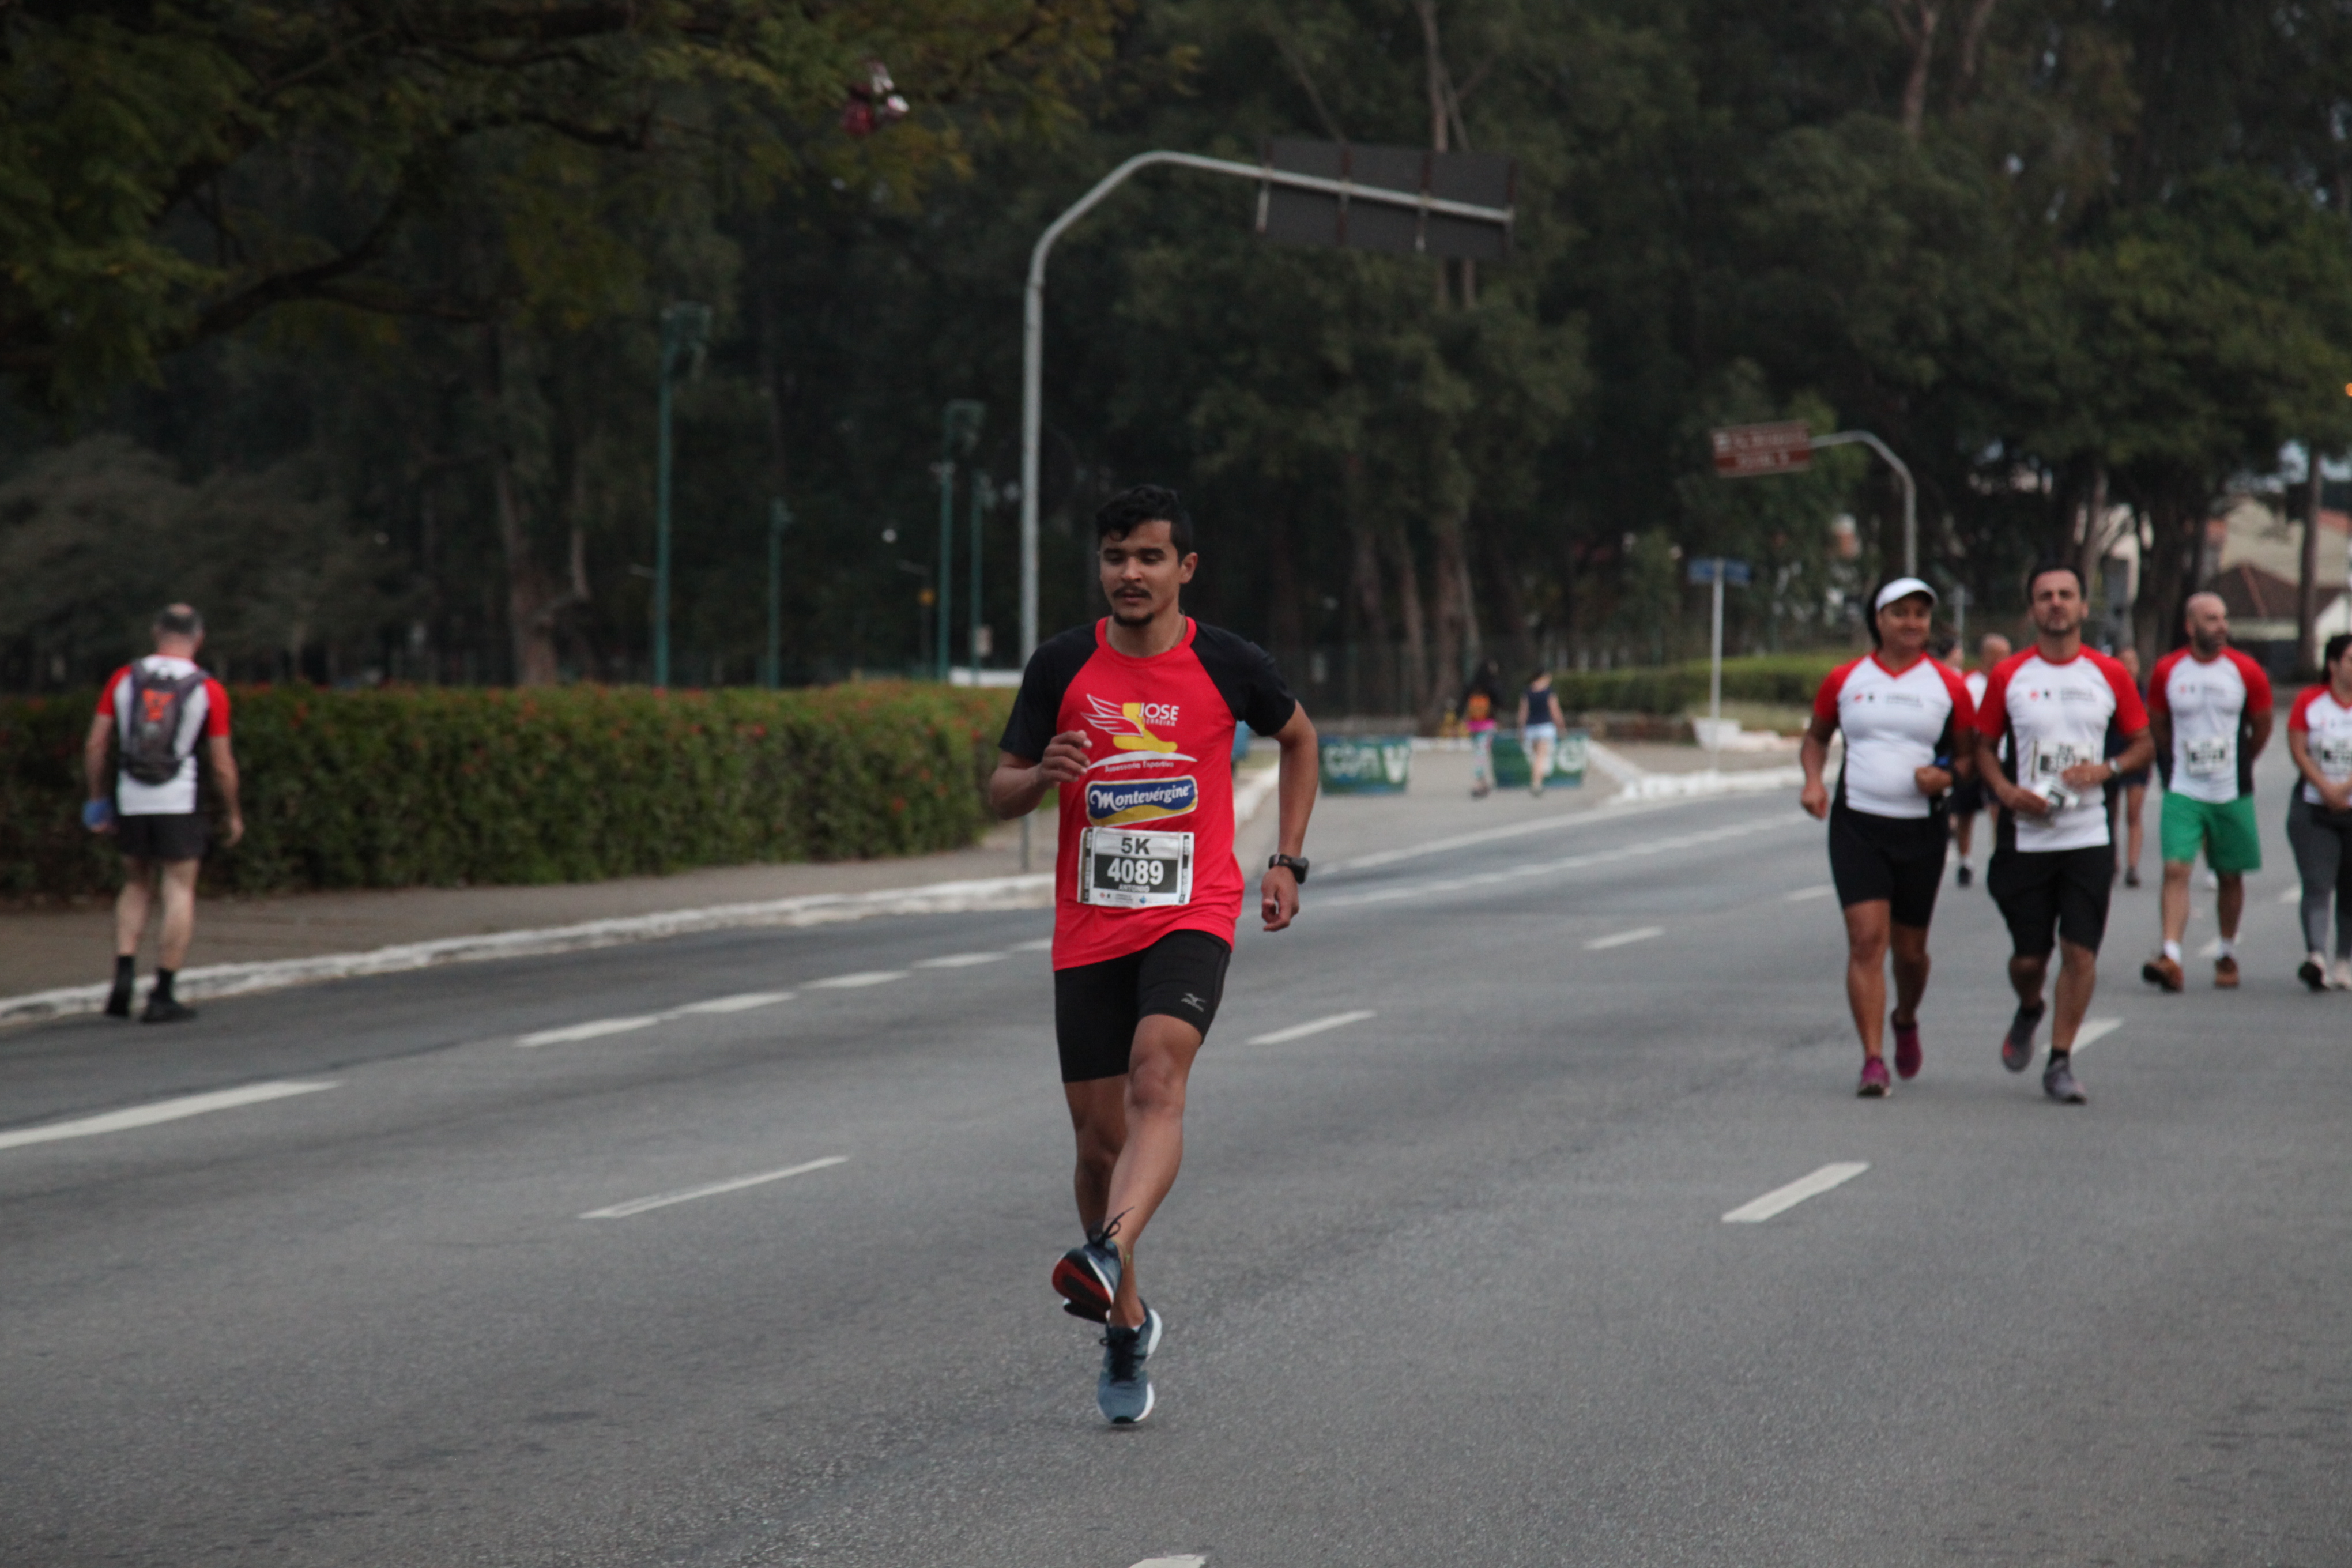bibtag: (1069, 812, 1211, 920), (2179, 726, 2231, 796)
